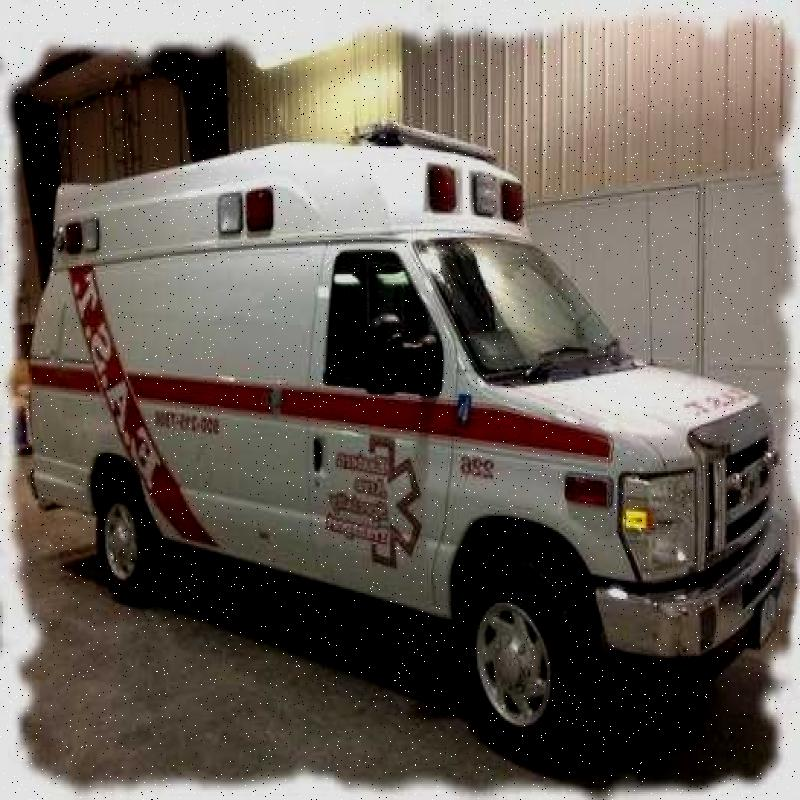AmbulanceSiren: (344, 110, 534, 161)
